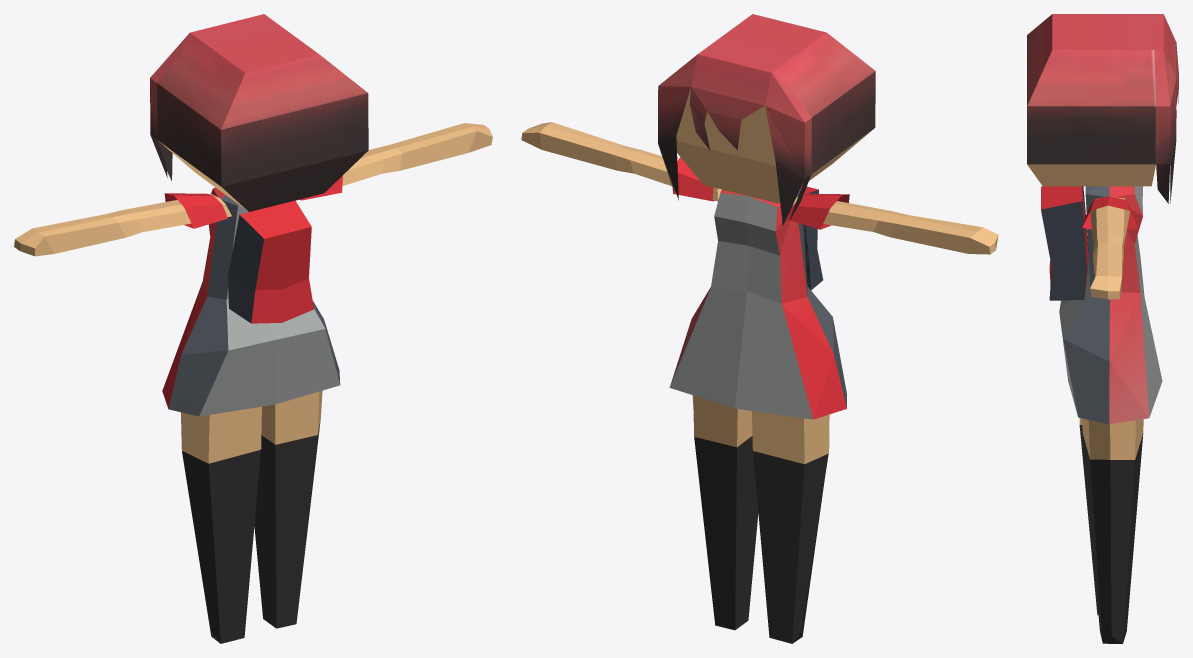
File: чибик 3.fbx
3 views of the same model, side by side, from view 1: azimuth 30°, elevation 25°; view 2: azimuth 150°, elevation 25°; view 3: azimuth 270°, elevation 25° (orthographic).
Parts seen in each view (by area): view 1: ТЕЛО_000, ТЕЛО_001, ТЕЛО_004, ТЕЛО_005, ТЕЛО_006, ТЕЛО_003, ТЕЛО_002; view 2: ТЕЛО_000, ТЕЛО_001, ТЕЛО_004, ТЕЛО_005, ТЕЛО_003, ТЕЛО_002, ТЕЛО_006; view 3: ТЕЛО_000, ТЕЛО_001, ТЕЛО_005, ТЕЛО_006, ТЕЛО_002, ТЕЛО_004.
Boxes of the visible parts, x1,y1,x2,y2 form: ТЕЛО_000: [150, 14, 368, 211]; ТЕЛО_001: [162, 187, 340, 416]; ТЕЛО_004: [181, 406, 261, 643]; ТЕЛО_005: [254, 390, 322, 628]; ТЕЛО_006: [228, 200, 313, 323]; ТЕЛО_003: [14, 193, 231, 256]; ТЕЛО_002: [296, 123, 492, 200]; ТЕЛО_000: [658, 14, 875, 225]; ТЕЛО_001: [669, 189, 846, 419]; ТЕЛО_004: [751, 411, 829, 643]; ТЕЛО_005: [692, 395, 758, 630]; ТЕЛО_003: [787, 193, 998, 254]; ТЕЛО_002: [521, 122, 721, 201]; ТЕЛО_006: [800, 186, 823, 290]; ТЕЛО_000: [1027, 14, 1178, 203]; ТЕЛО_001: [1059, 186, 1162, 424]; ТЕЛО_005: [1082, 418, 1143, 643]; ТЕЛО_006: [1041, 186, 1088, 300]; ТЕЛО_002: [1082, 196, 1137, 299]; ТЕЛО_004: [1079, 418, 1098, 615].
Size of the model in its own units: 1.79 by 2.14 by 0.4952.
